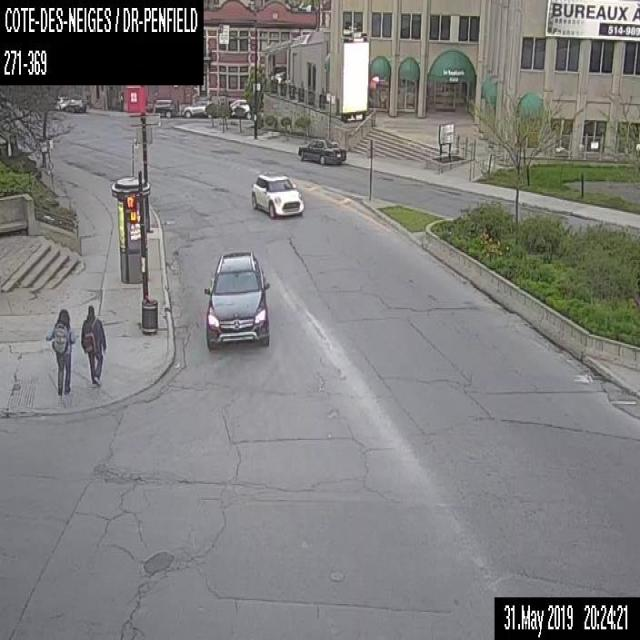pedestrian: (48, 304, 72, 393), (80, 303, 105, 384)
vehicle: (202, 248, 269, 351), (250, 170, 304, 218), (297, 137, 346, 164), (180, 95, 213, 116), (150, 95, 175, 117), (229, 98, 250, 118), (64, 95, 86, 112), (55, 94, 68, 109)
